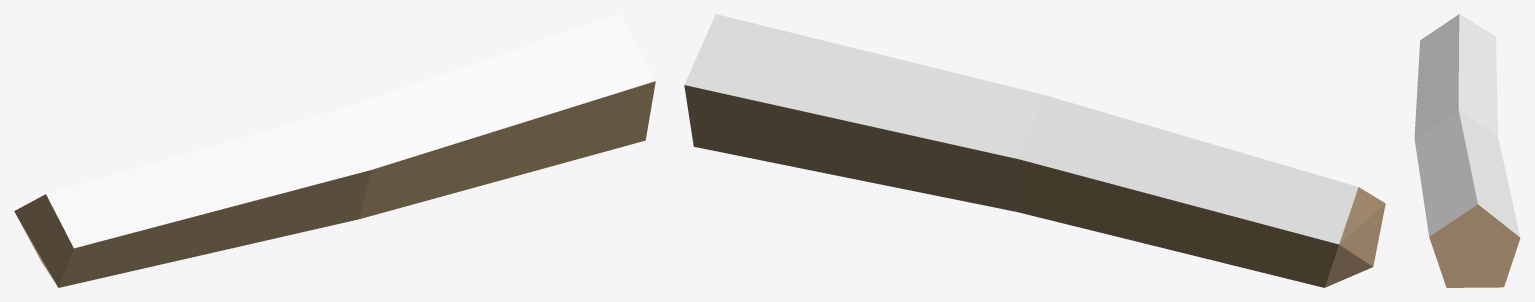
File: Acacia_Log_Snow_02.fbx
3 renders of one model, left to right at view 1: azimuth 30°, elevation 25°; view 2: azimuth 150°, elevation 25°; view 3: azimuth 270°, elevation 25°, orthographic. The views are drawn at different scales.
Visible parts, largest first — view 1: Acacia_Log_Snow_02; view 2: Acacia_Log_Snow_02; view 3: Acacia_Log_Snow_02.
Boxes of the visible parts, box(x1,y1,x2,y2) form: Acacia_Log_Snow_02: box(14, 14, 655, 287); Acacia_Log_Snow_02: box(684, 14, 1385, 287); Acacia_Log_Snow_02: box(1414, 14, 1520, 287).
Bounding box in the file's own units: 178 × 31.9 × 37.29.
